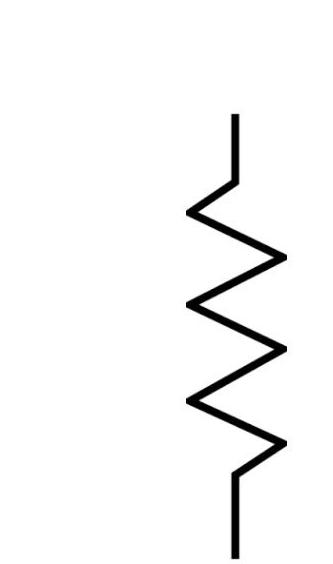resistor: (140, 137, 300, 528)
